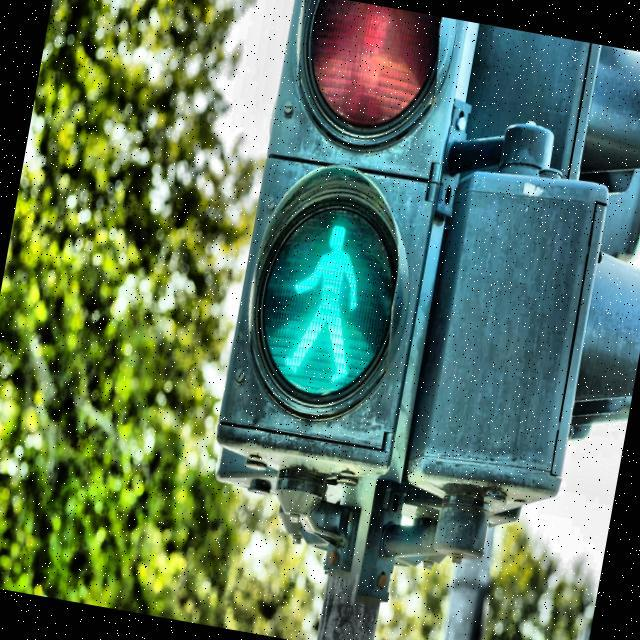green_light: (273, 213, 379, 389)
